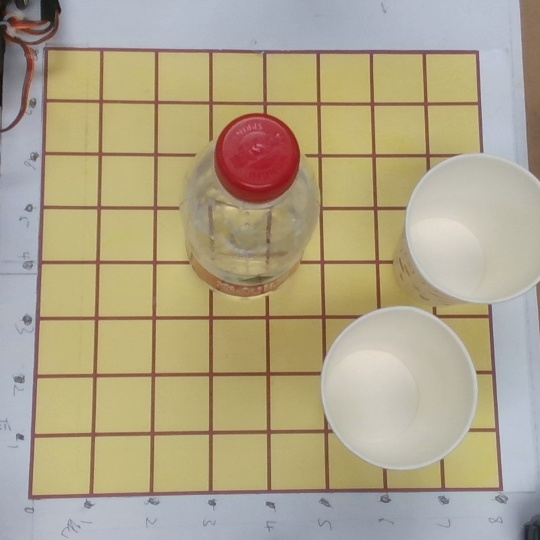bottle: (168, 110, 321, 315)
cup: (288, 304, 479, 476), (375, 153, 540, 306)
